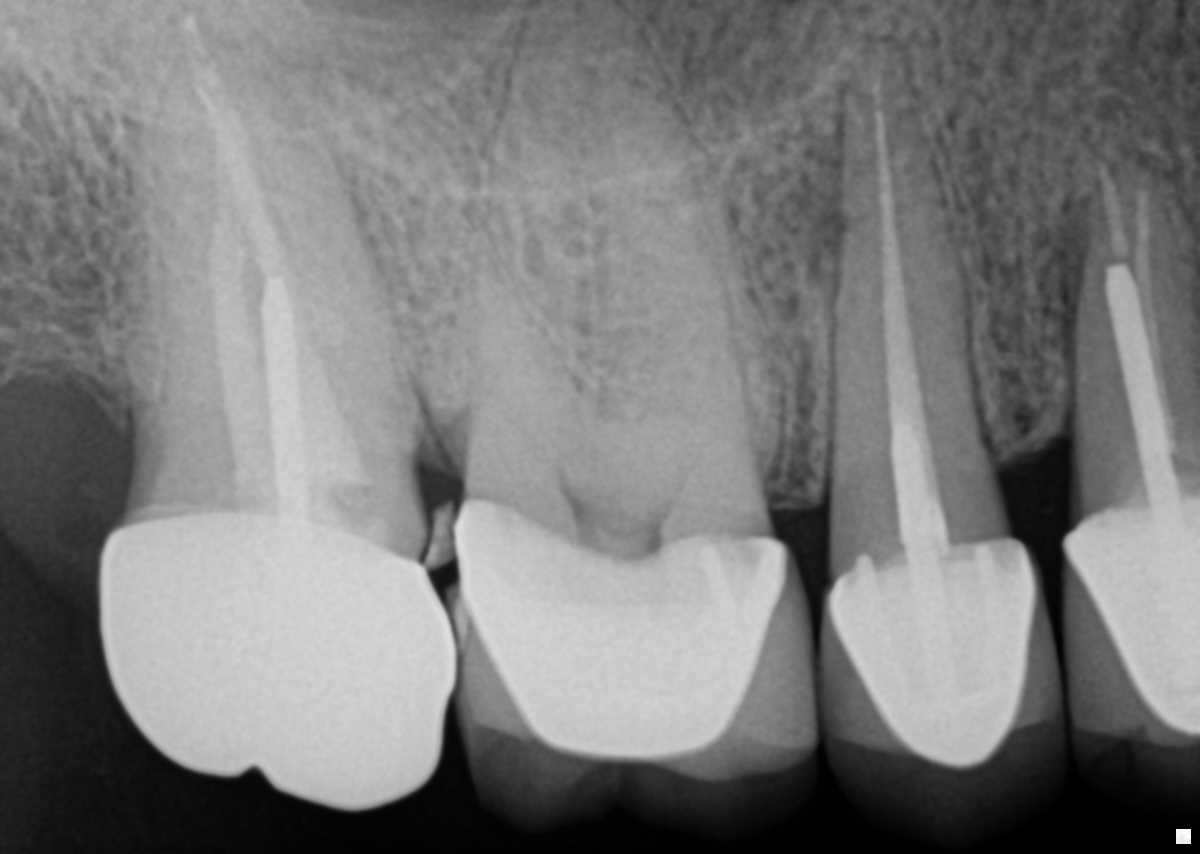Apical Lesion: (798, 118, 845, 283), (1034, 203, 1089, 312)
Distal Root: (368, 127, 591, 473)
Main Root: (120, 39, 414, 462), (824, 33, 989, 496), (1062, 159, 1200, 429)
Mesial Root: (591, 96, 747, 432)
Palatal Root: (465, 0, 783, 482)
Root Canal Filling: (176, 16, 365, 515), (874, 70, 938, 499), (1133, 188, 1176, 453), (1095, 158, 1127, 270)
